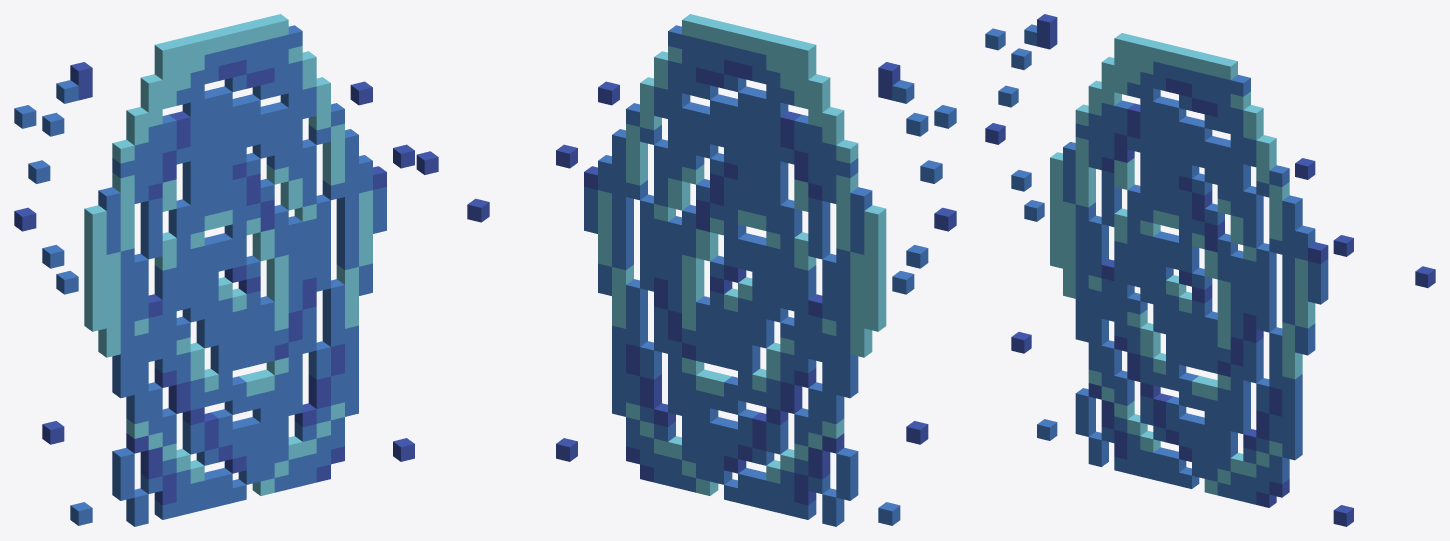
The model's file is bluePortal.dae.
3 views of the same model, side by side, from view 1: azimuth 30°, elevation 25°; view 2: azimuth 150°, elevation 25°; view 3: azimuth 330°, elevation 25° (orthographic). The views are drawn at different scales.
Parts seen in each view (by area): view 1: ObjObject; view 2: ObjObject; view 3: ObjObject.
Part boxes in pixels (bbox=[...]): ObjObject: bbox=[14, 14, 438, 526]; ObjObject: bbox=[467, 14, 956, 526]; ObjObject: bbox=[985, 14, 1435, 526].
Size of the model in its own units: 3.2 by 0.5 by 3.2.
Materials: 1 (1 with a texture image).
